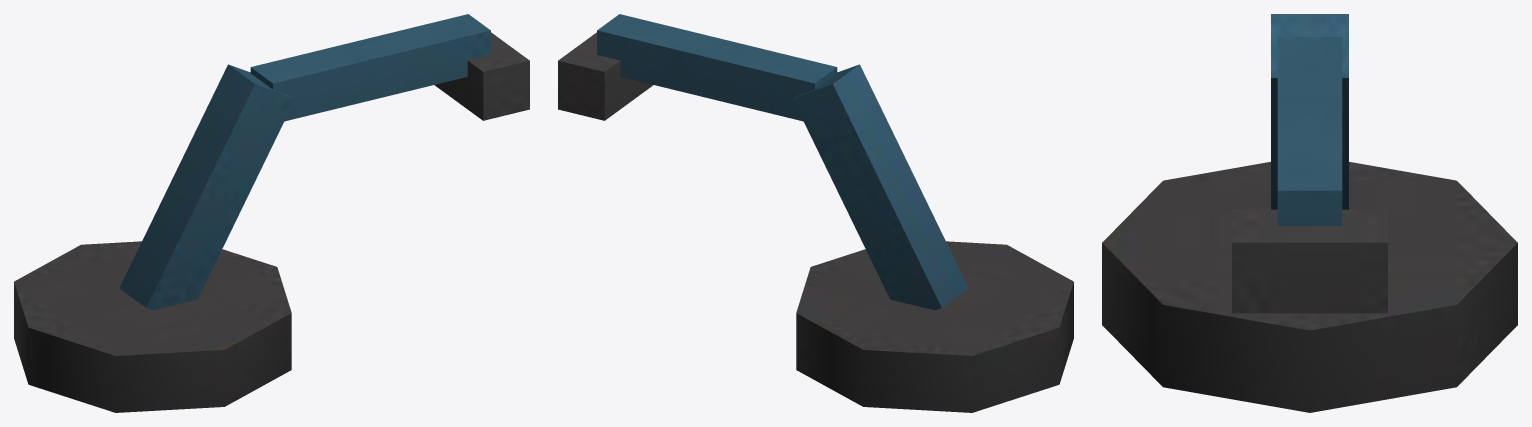
Rendered from fast-inserter.glb.
3 renders of one model, left to right at view 1: azimuth 30°, elevation 25°; view 2: azimuth 150°, elevation 25°; view 3: azimuth 270°, elevation 25°, orthographic. The views are drawn at different scales.
Parts seen in each view (by area): view 1: fast-inserter; view 2: fast-inserter; view 3: fast-inserter.
Boxes of the visible parts, x1=… form: fast-inserter: x1=14, y1=14, x2=529, y2=412; fast-inserter: x1=558, y1=14, x2=1073, y2=412; fast-inserter: x1=1102, y1=14, x2=1517, y2=412.
Bounding box in the file's own units: 0.305 × 0.1587 × 0.16.
1 material, 1 textured.
